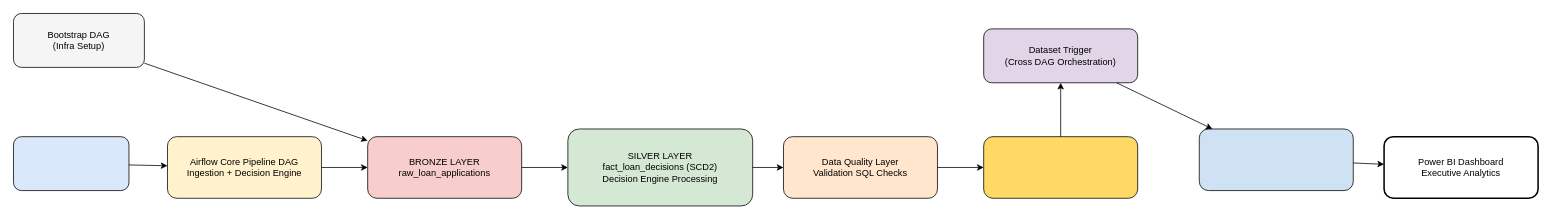
The diagram is 1552 pixels wide and 219 high, and some of its shapes have lost their labels. Here are the shapes that lost their labels. From the top down, the centre of each, then its label:
(x=71, y=163): External Source CSV / API
(x=1060, y=167): GOLD LAYER mart_loan_decision
(x=1276, y=159): KPI Refresh DAG Materialized Views
